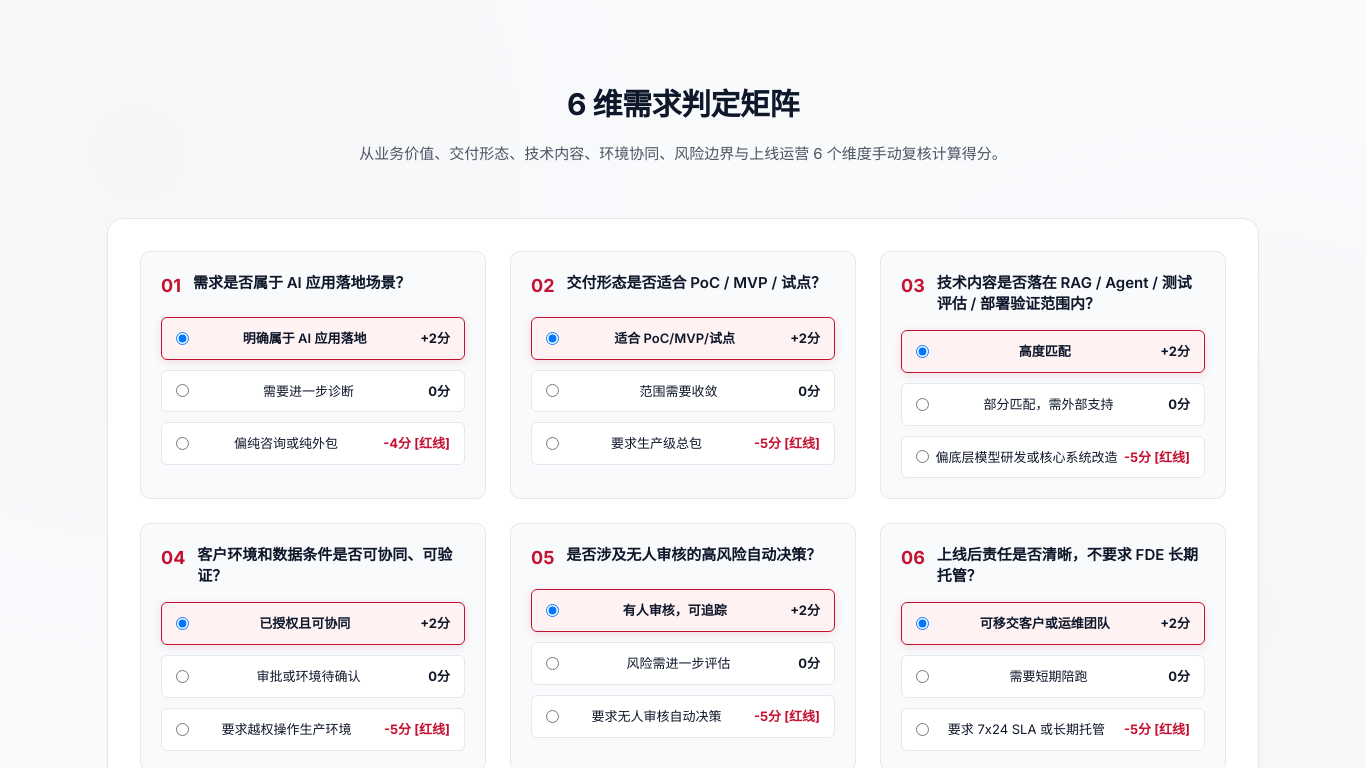
it: DecisionMatrix › updates a selection through the radio controls
Click the radio button labelled "需要进一步诊断 0分". click: (182,391)
box: [176, 384, 189, 398]
(page scrolled)
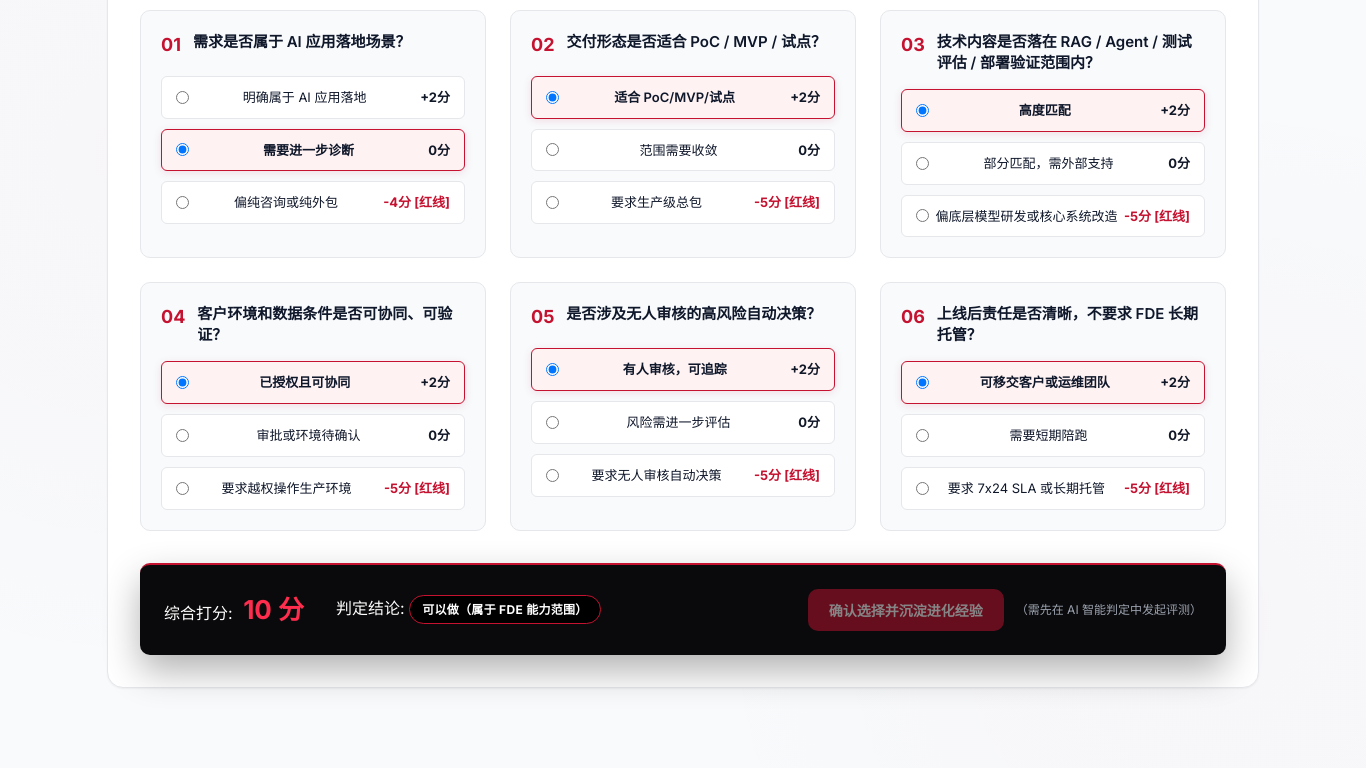
Expected: the element showing "综合打分: 10 分" is shown, [164, 589, 304, 631]
